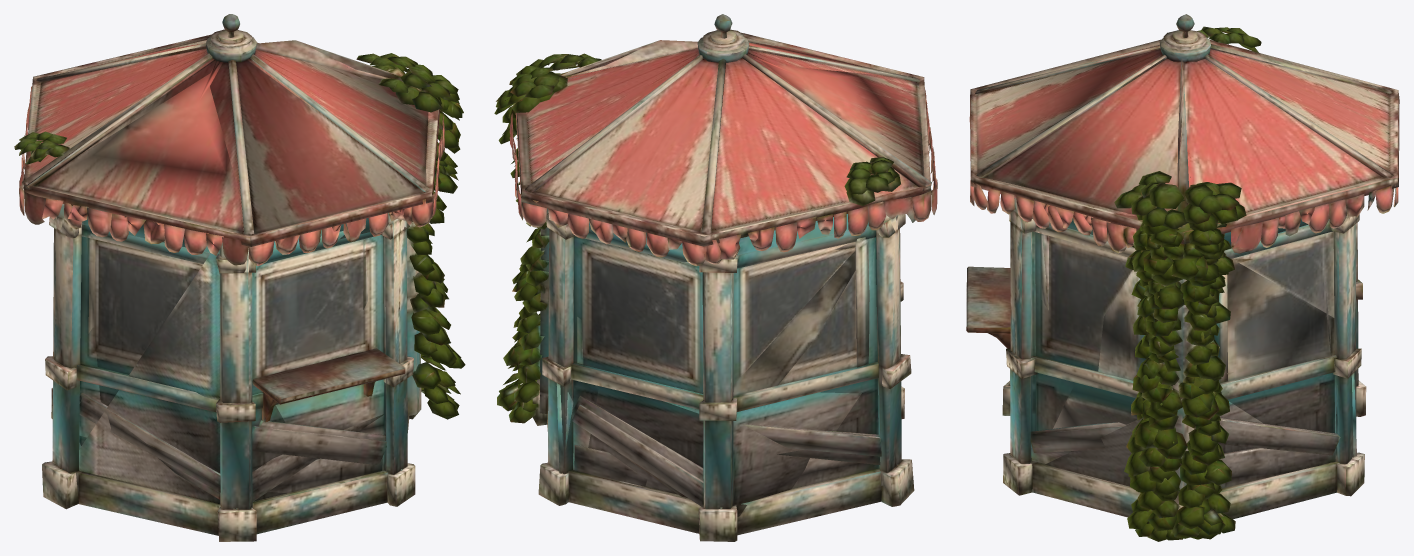
Rendered from ticket-booth.glb.
The picture shows the model from 3 angles, left to right: view 1: azimuth 30°, elevation 25°; view 2: azimuth 150°, elevation 25°; view 3: azimuth 270°, elevation 25°; orthographic projection. The views are drawn at different scales.
Parts seen in each view (by area): view 1: ticket-booth; view 2: ticket-booth; view 3: ticket-booth.
Boxes of the visible parts, x1=… form: ticket-booth: x1=14, y1=14, x2=465, y2=541; ticket-booth: x1=494, y1=14, x2=937, y2=541; ticket-booth: x1=966, y1=14, x2=1399, y2=541.
Size of the model in its own units: 4.5 by 4.5 by 4.07.
1 material, 1 textured.
